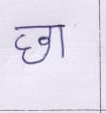aa_matra: (60, 26, 64, 58)
